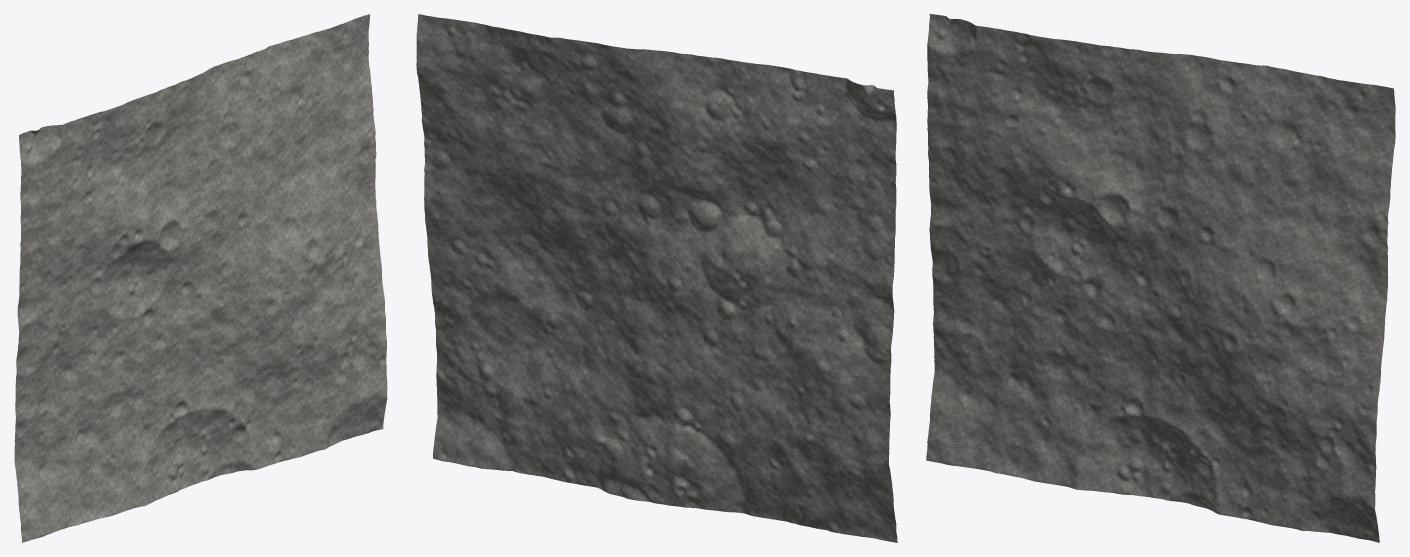
Rendered from terrain.obj.
3 renders of one model, left to right at view 1: azimuth 30°, elevation 25°; view 2: azimuth 150°, elevation 25°; view 3: azimuth 330°, elevation 25°, orthographic. The views are drawn at different scales.
Visible parts, largest first — view 1: terrain; view 2: terrain; view 3: terrain.
Part boxes in pixels (<box>): terrain: <box>14,14,387,542</box>; terrain: <box>416,14,897,542</box>; terrain: <box>926,14,1395,542</box>.
Size of the model in its own units: 100 by 100 by 18.36.
Materials: 1 (1 with a texture image).
